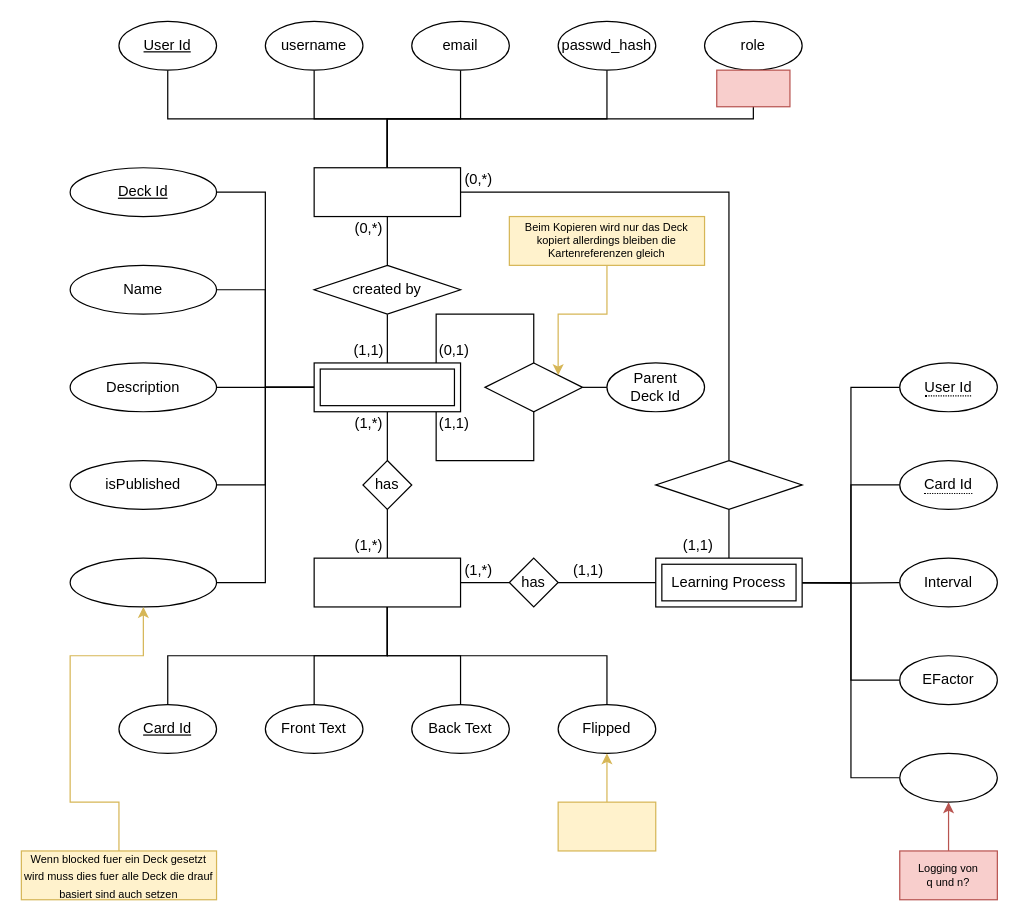
The diagram is 1019 pixels wide and 922 high, and some of its shapes have lost their labels. The centre of each missing label's shape, as x and y in pixels:
based on: the point at 533,387
blocked: the point at 143,582
Card: the point at 387,582
Class based oder Role based??: the point at 753,88
Deck: the point at 387,387
learns: the point at 728,484
Ob Front und Back Text geflippt sein sollen: the point at 606,826
Repetitions: the point at 948,777
User: the point at 387,192
